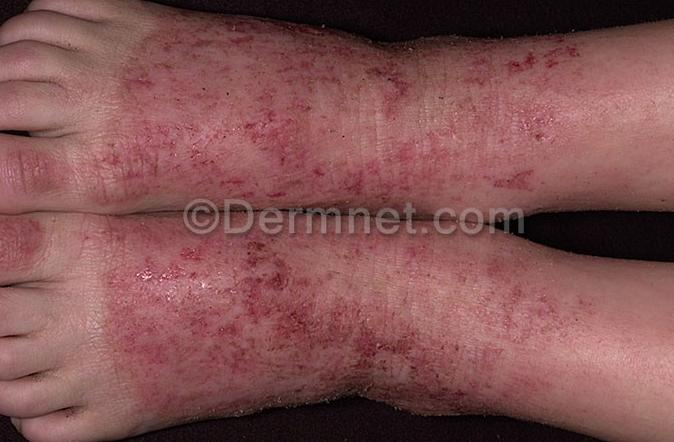Eritema 2: (0, 139, 70, 278)
eritema 3: (89, 4, 589, 431)
excoriacion 3: (91, 2, 585, 426)
exudacion 3: (146, 15, 577, 192), (140, 231, 492, 409)
xerosis 2: (167, 0, 582, 59), (158, 386, 507, 432)
